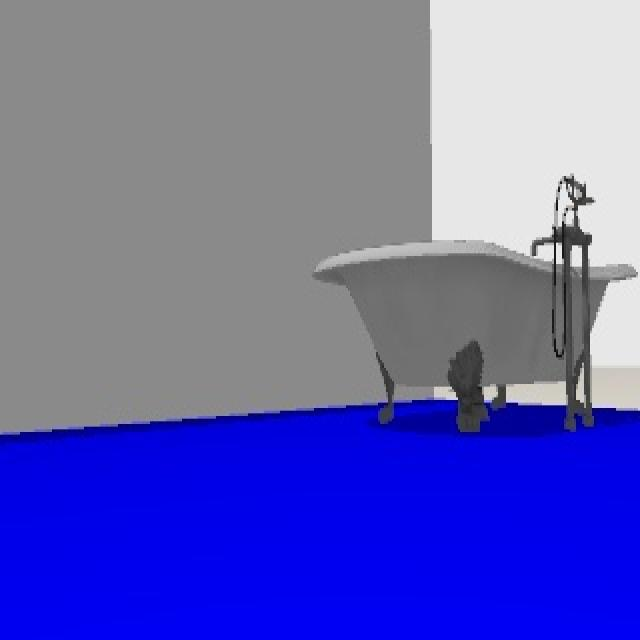bathtub: (318, 173, 640, 432)
